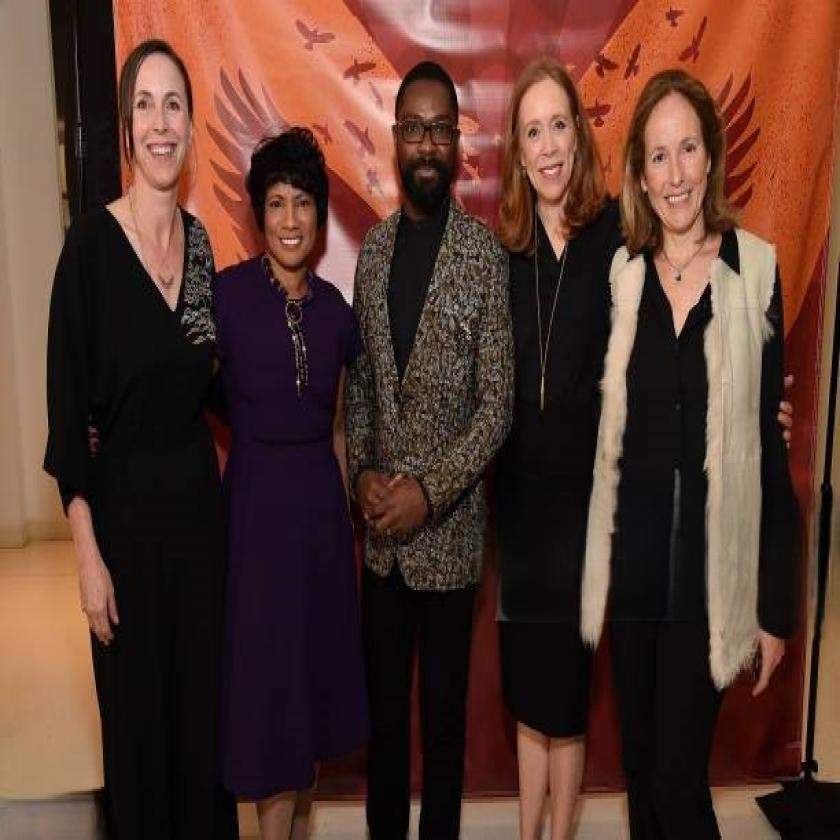Sin_casco: (632, 70, 728, 254), (108, 32, 202, 210), (510, 53, 595, 234), (386, 53, 472, 224), (248, 120, 335, 282)
